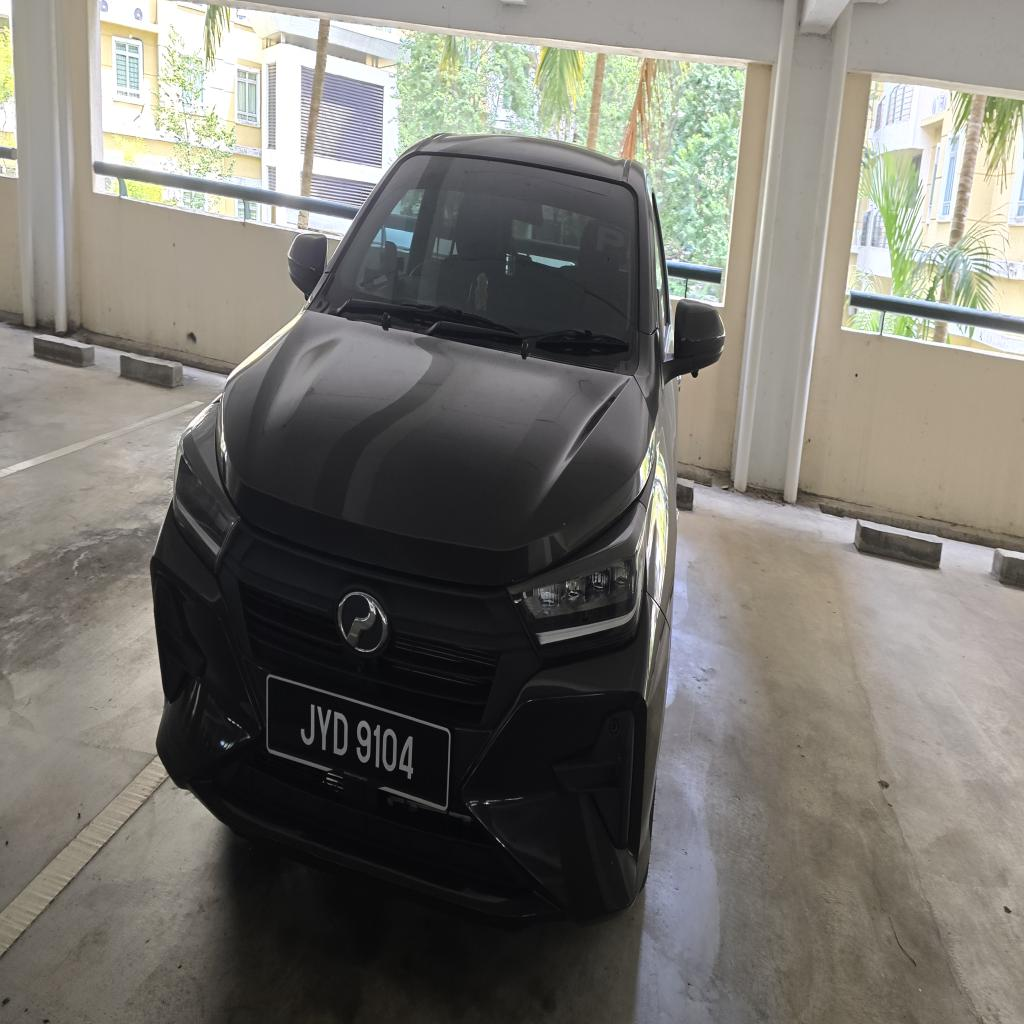car: (152, 136, 723, 917)
car plate: (266, 675, 450, 810)
